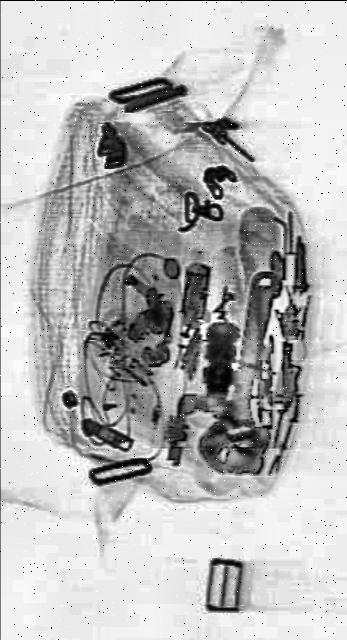Wrench: (192, 247, 294, 488)
